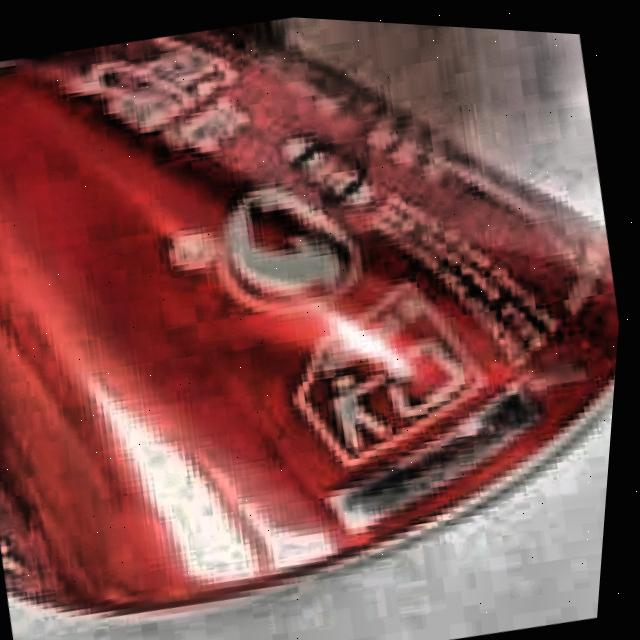metal: (0, 13, 623, 614)
